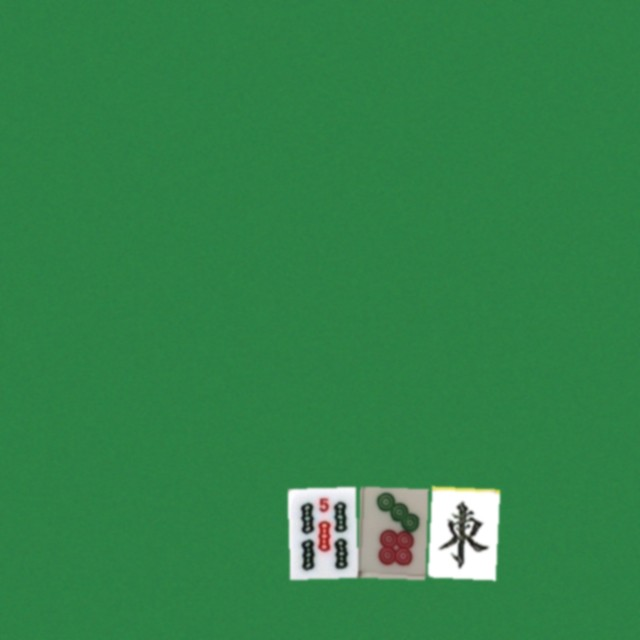tile: (287, 486, 355, 577), (357, 486, 425, 577), (427, 486, 495, 577)
